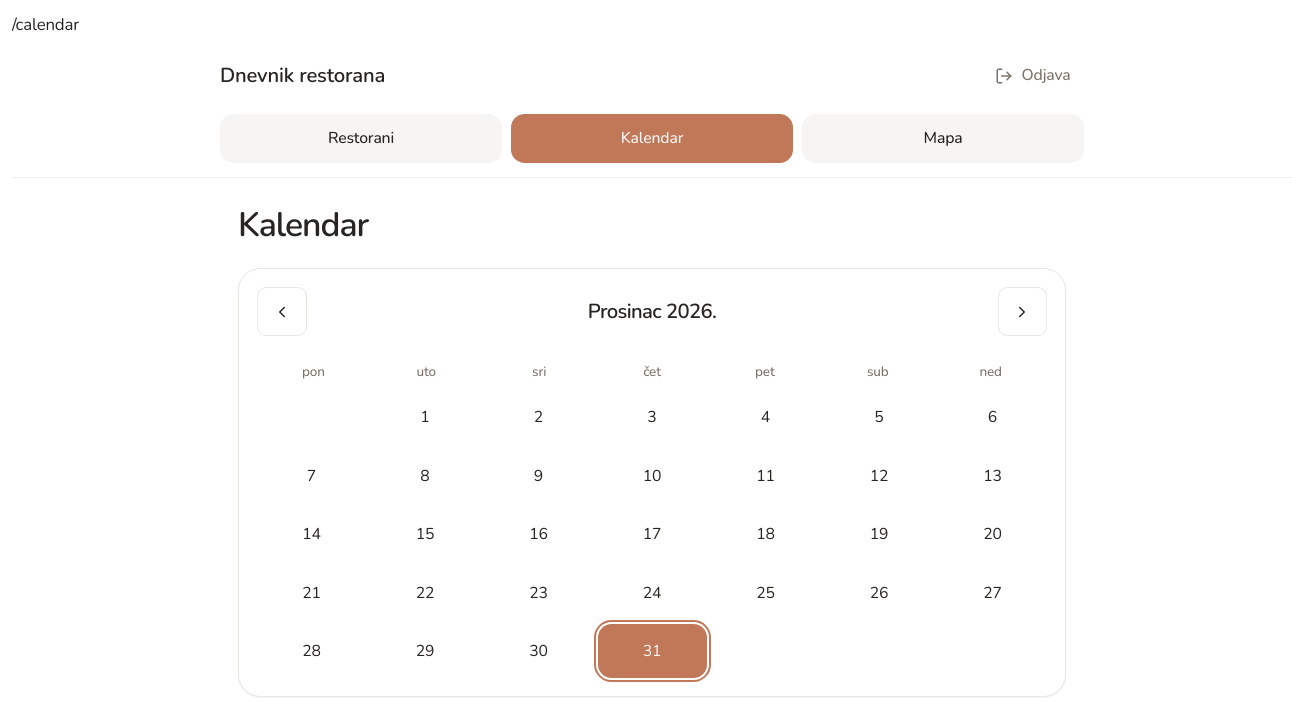
Scenario: Restaurant V1 Calendar › navigates from December to January without shifting the selected ISO date
Step 1. Click the button named "Sljedeći mjesec" → (1022, 312), box [998,287,1047,336]
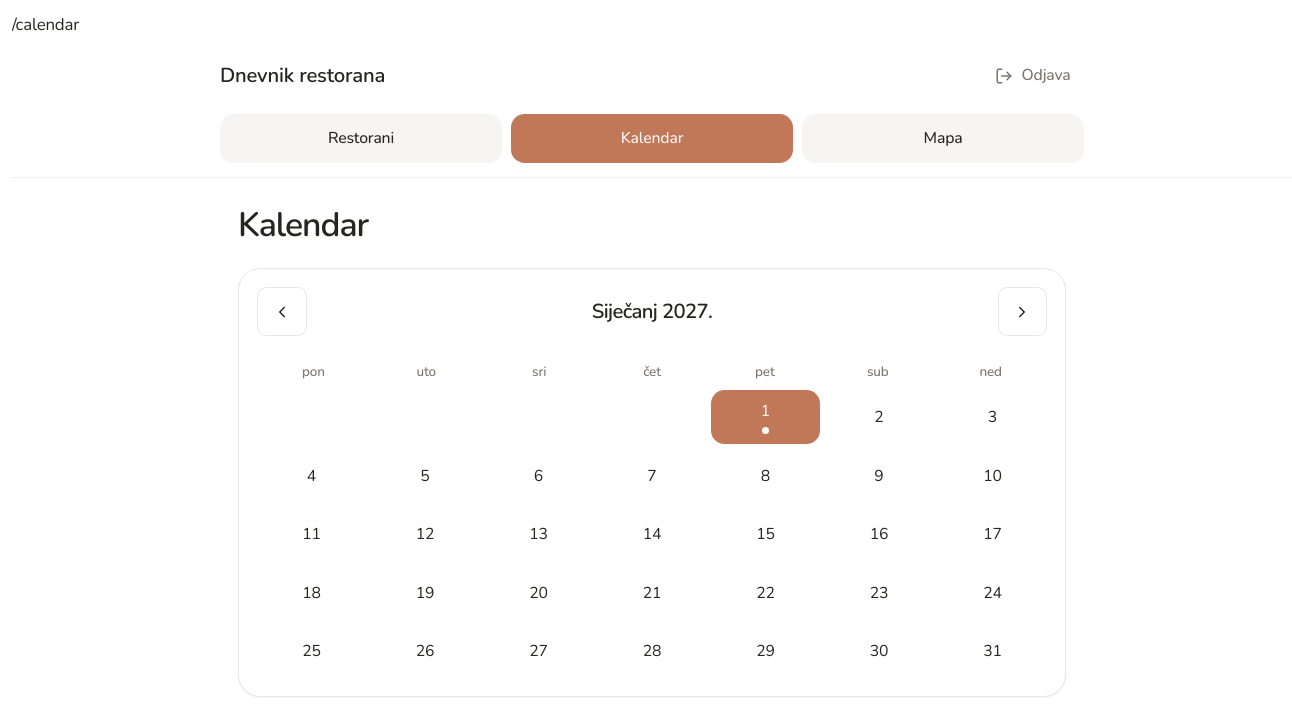
expect the heading "siječanj 2027." is shown: met, box [592,296,712,327]
Step 2. Click the button named "Prethodni mjesec" → (282, 312), box [257,287,306,336]
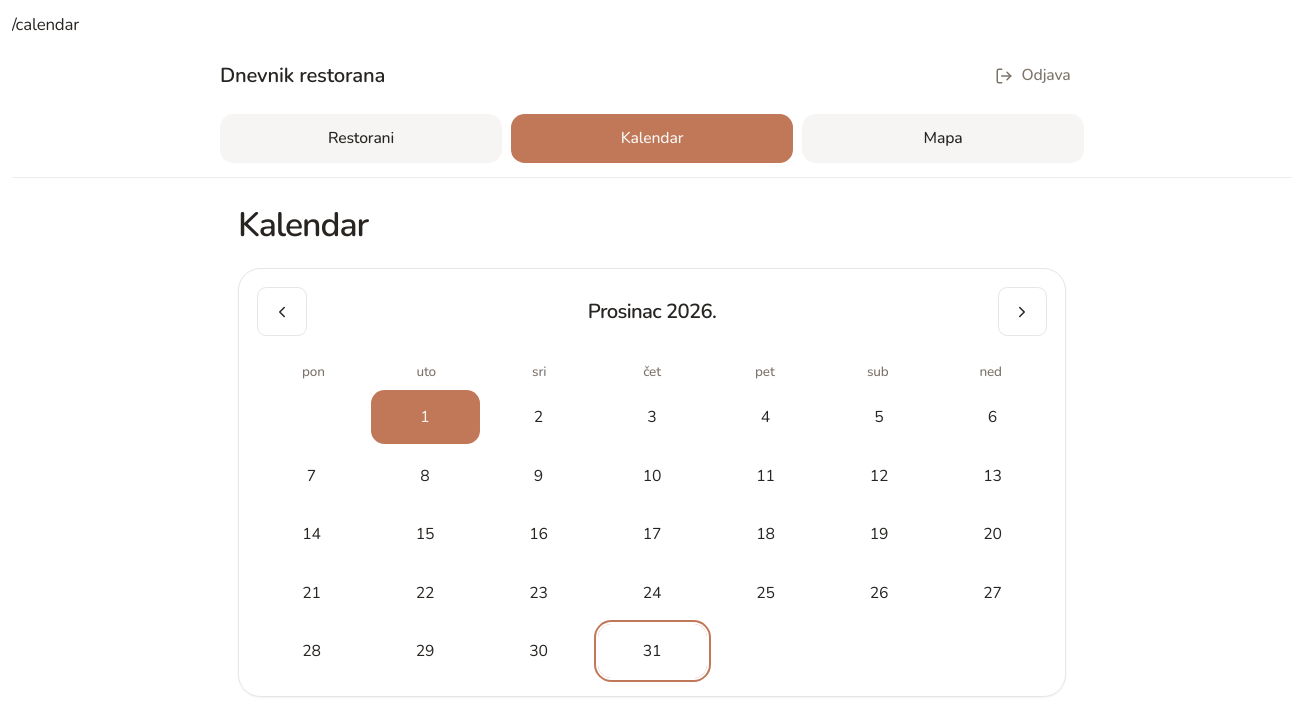
expect the heading "prosinac 2026." is shown: met, box [588,296,716,327]
